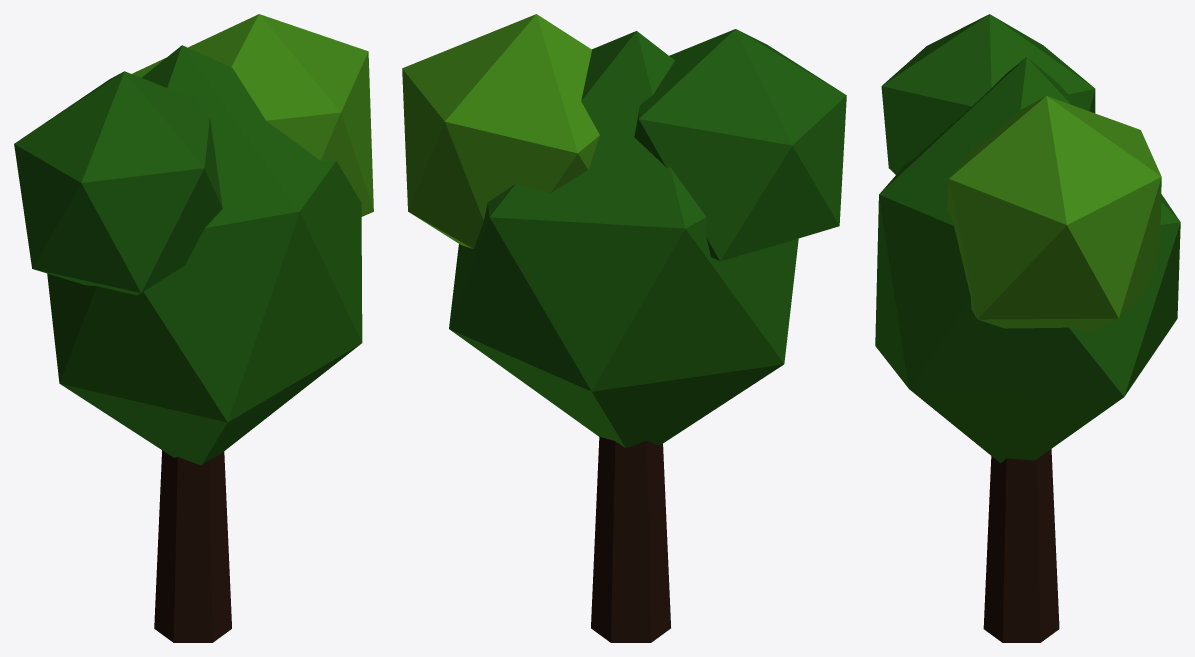
The model's file is round_tree.obj.
3 renders of one model, left to right at view 1: azimuth 30°, elevation 25°; view 2: azimuth 150°, elevation 25°; view 3: azimuth 270°, elevation 25°, orthographic. The views are drawn at different scales.
Parts seen in each view (by area): view 1: round_tree; view 2: round_tree; view 3: round_tree.
Part boxes in pixels (x1,y1,x2,y2): round_tree: (14,14,373,642); round_tree: (402,14,846,642); round_tree: (875,14,1180,642).
Size of the model in its own units: 2.26 by 3.34 by 1.61.
